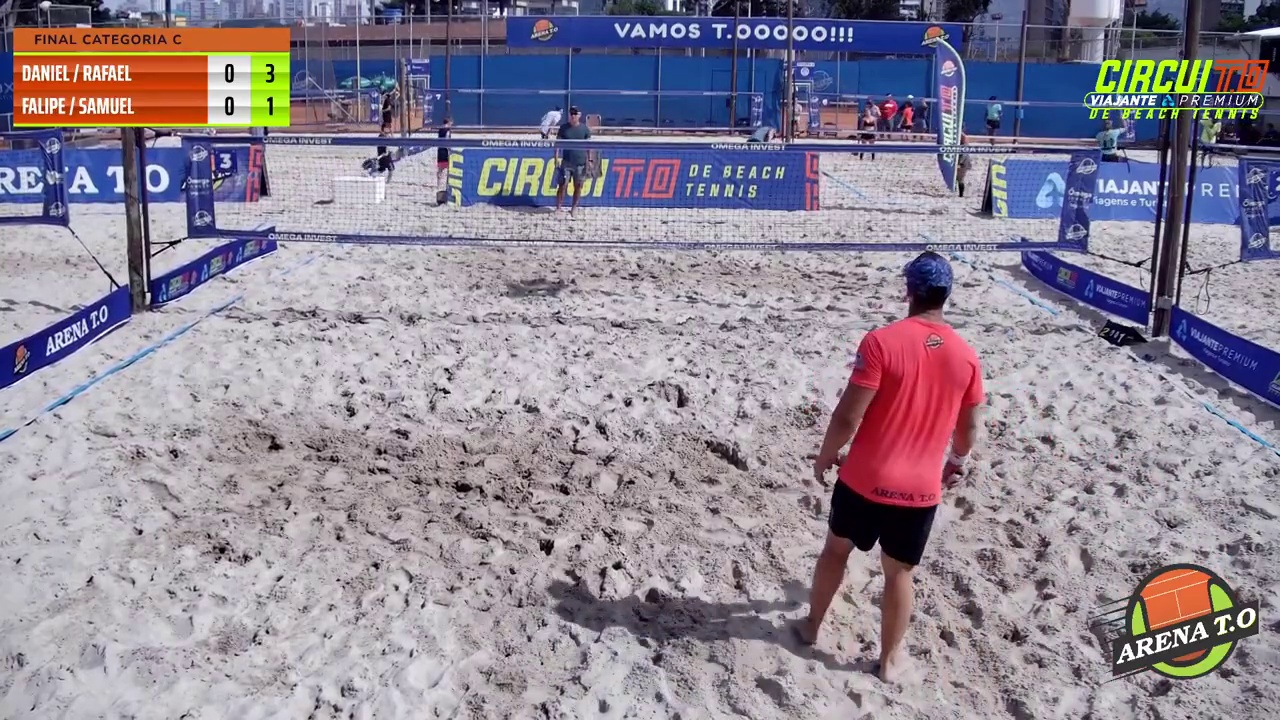court_line: (640, 0, 806, 434)
